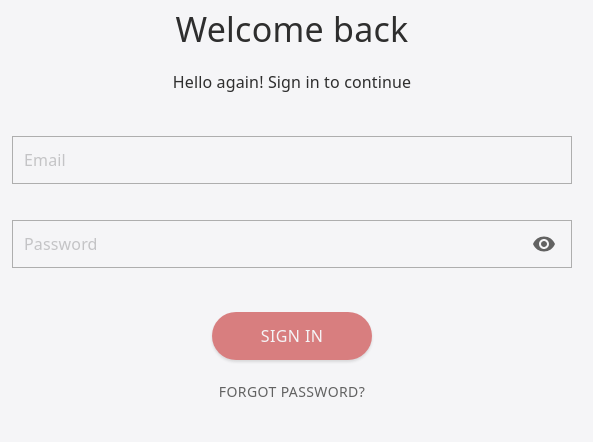
Test case: SignInPage › after leaving the field with an invalid email, an error appears
The width and height of the screenshot is (593, 442).
In the field labelled "Email": point(292, 160) [12,136,572,184], type "bad"
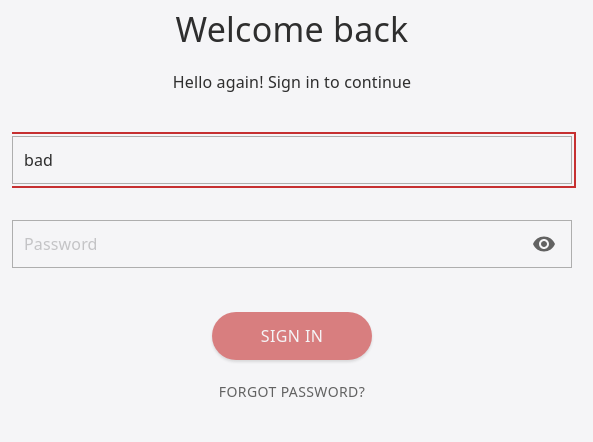
Press Tab
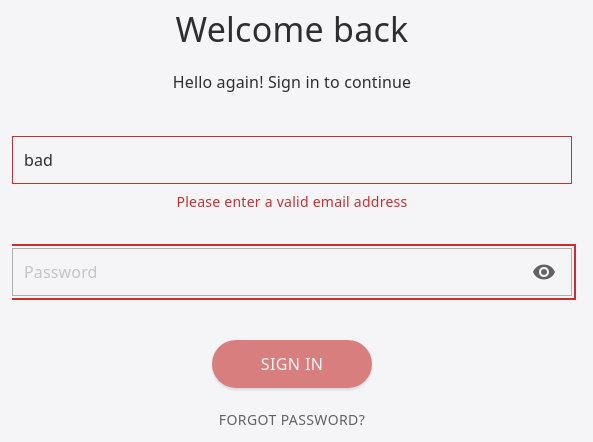
Result: the message reads "Please enter a valid email address" at [176,192,408,211]
